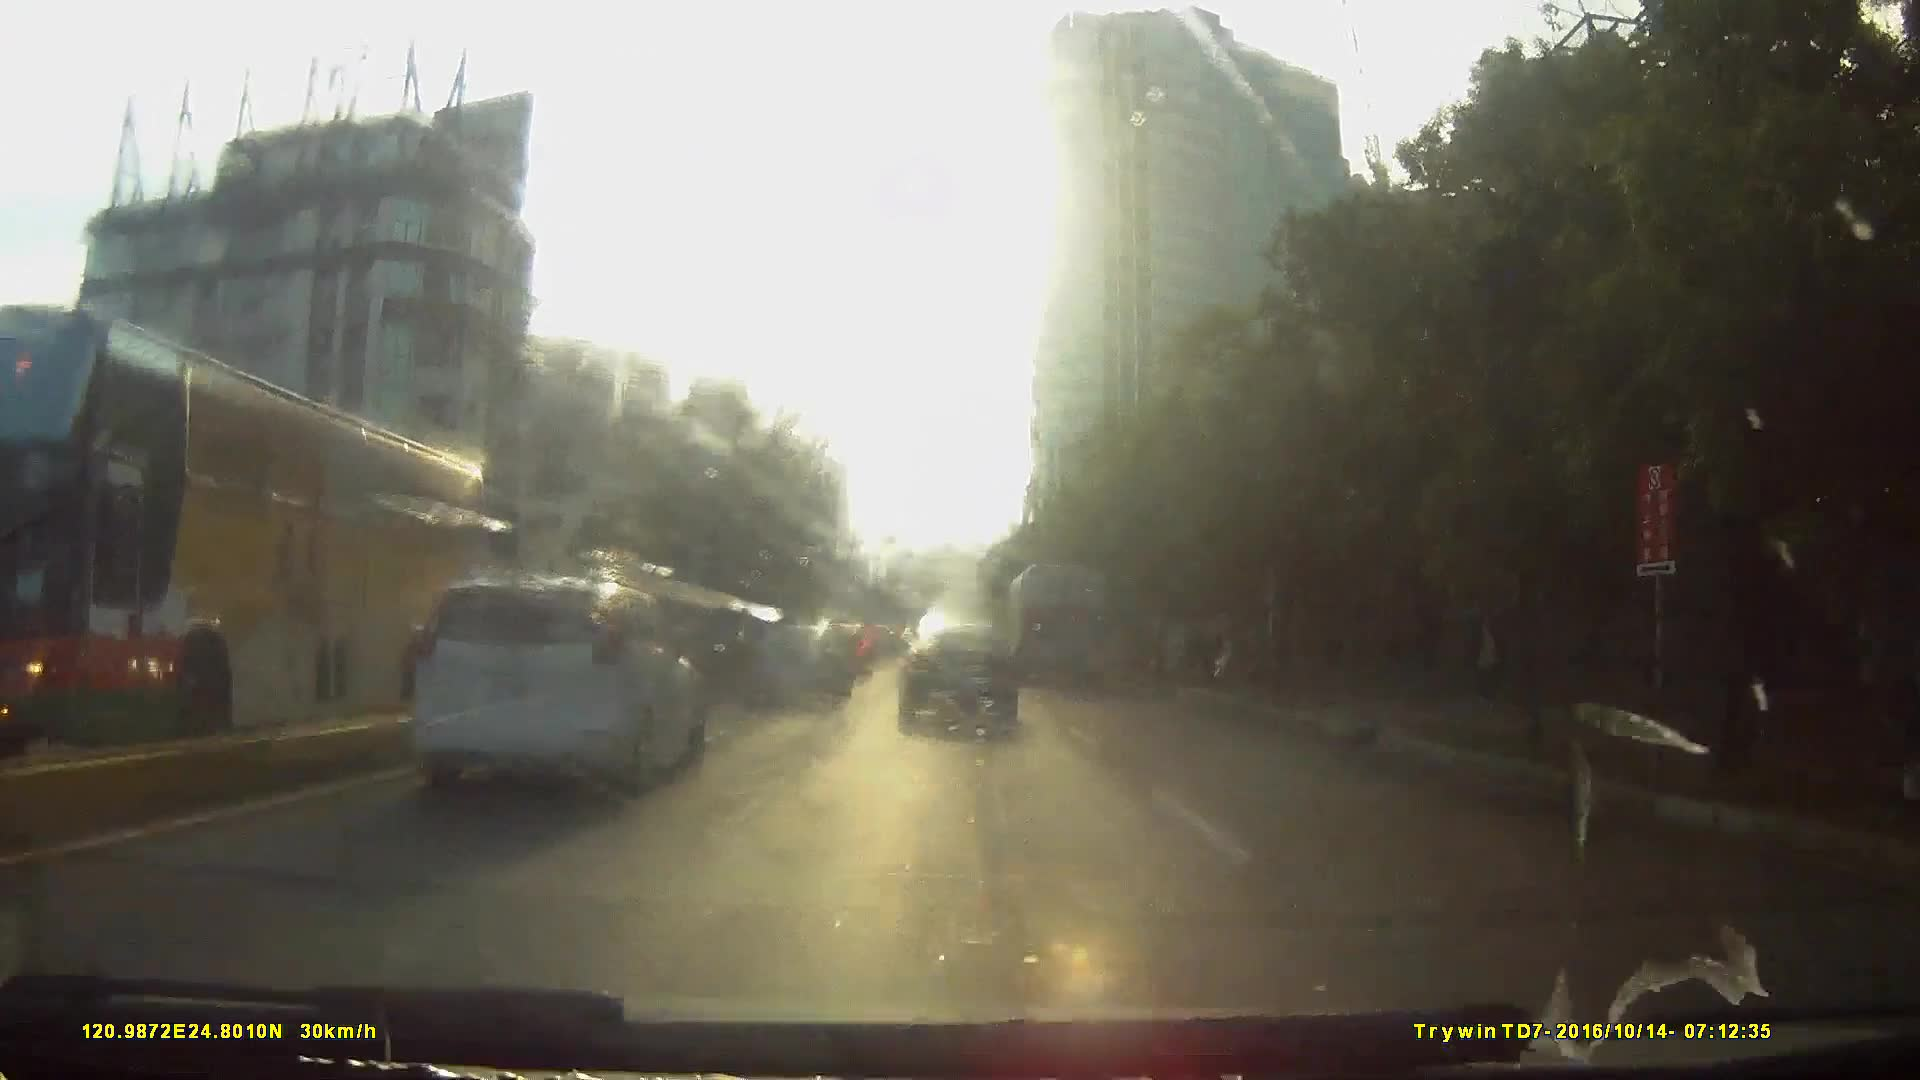vehicle: (1, 291, 501, 752), (251, 556, 684, 868), (404, 567, 702, 804), (893, 618, 1017, 731), (1007, 564, 1113, 690), (744, 622, 852, 707), (866, 638, 915, 687)
